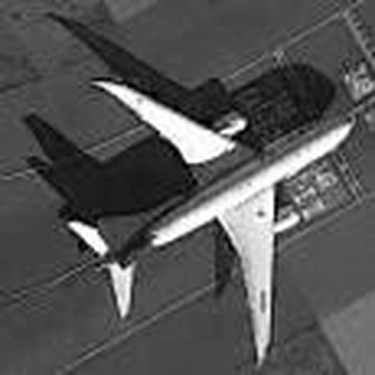airplane: (54, 56, 359, 359)
